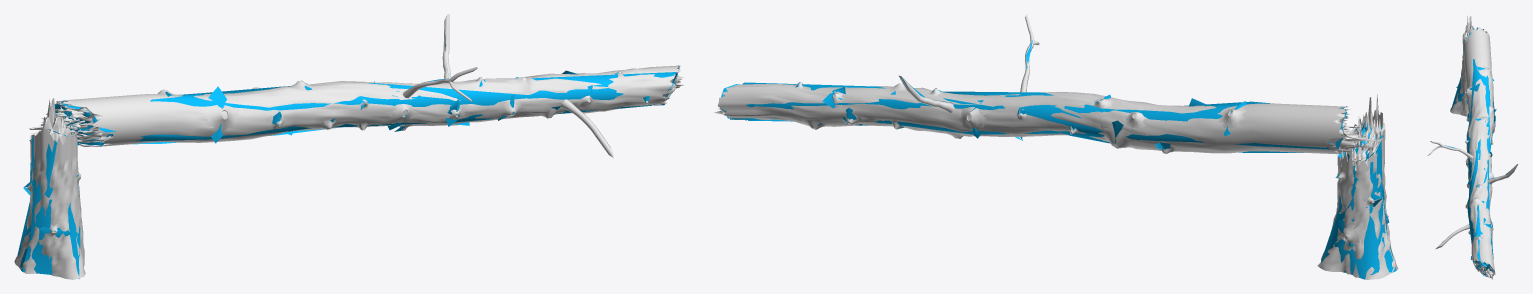
Rendered from Deadtree03_90.fbx.
3 views of the same model, side by side, from view 1: azimuth 30°, elevation 25°; view 2: azimuth 150°, elevation 25°; view 3: azimuth 270°, elevation 25° (orthographic). The views are drawn at different scales.
Visible parts, largest first — view 1: DeadTree03_LOD0, UTM_DeadTree03; view 2: DeadTree03_LOD0, UTM_DeadTree03; view 3: DeadTree03_LOD0, UTM_DeadTree03.
Part boxes in pixels (bbox=[...]): DeadTree03_LOD0: bbox=[14, 14, 683, 279]; UTM_DeadTree03: bbox=[17, 16, 679, 278]; DeadTree03_LOD0: bbox=[714, 14, 1398, 279]; UTM_DeadTree03: bbox=[721, 40, 1396, 279]; DeadTree03_LOD0: bbox=[1427, 16, 1517, 279]; UTM_DeadTree03: bbox=[1443, 27, 1517, 276].
Size of what is drawn, in the model's own units: 557 by 134 by 117.
